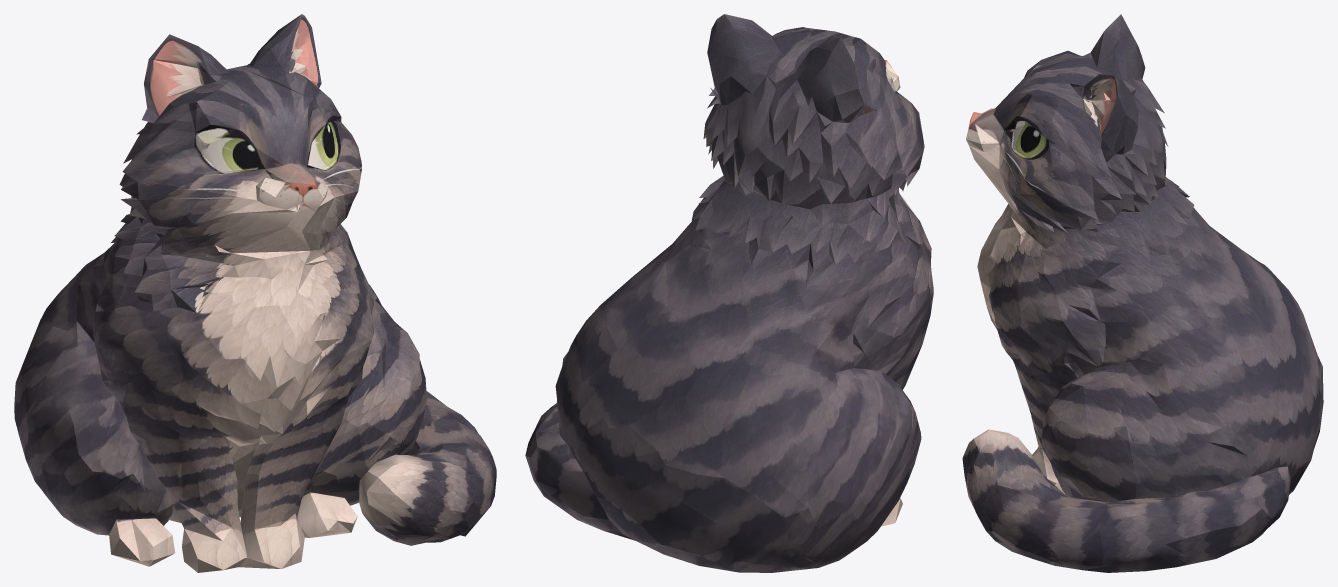
File: cat-sit.glb
3 renders of one model, left to right at view 1: azimuth 30°, elevation 25°; view 2: azimuth 150°, elevation 25°; view 3: azimuth 270°, elevation 25°, orthographic. The views are drawn at different scales.
Size of the model in its own units: 0.2029 by 0.25 by 0.1856.
Materials: 1 (1 with a texture image).
